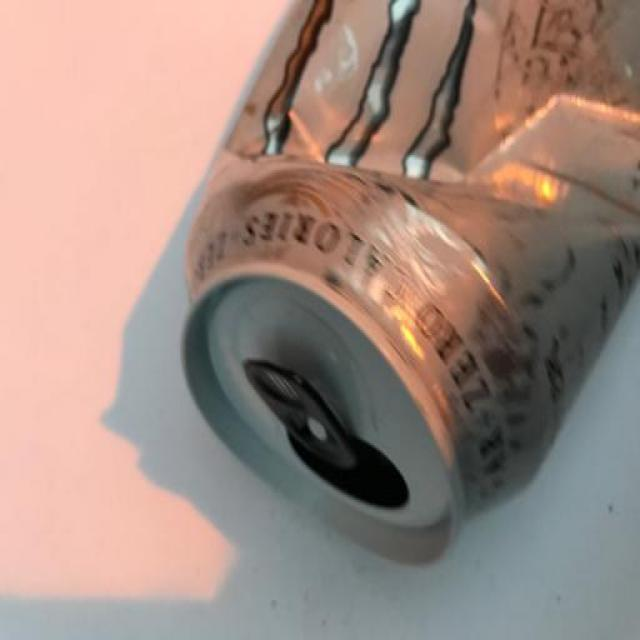metel: (167, 1, 640, 539)
